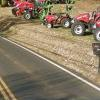Tractor: (29, 2, 100, 51)
